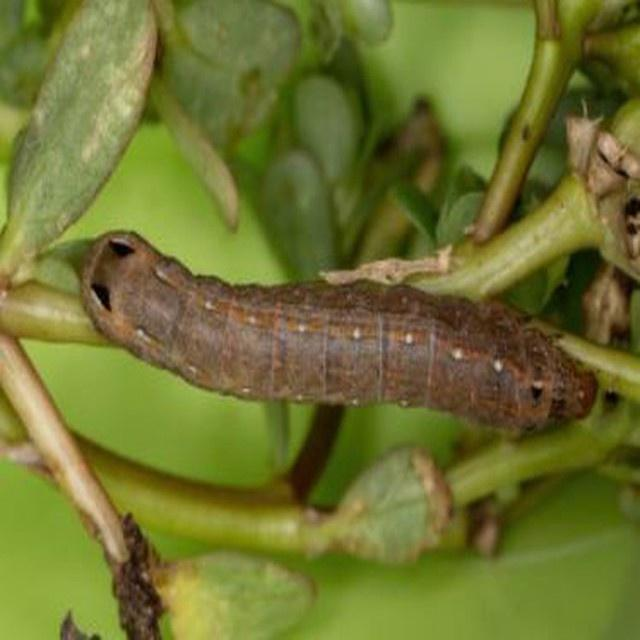gusano_cogollero: (77, 230, 600, 422)
